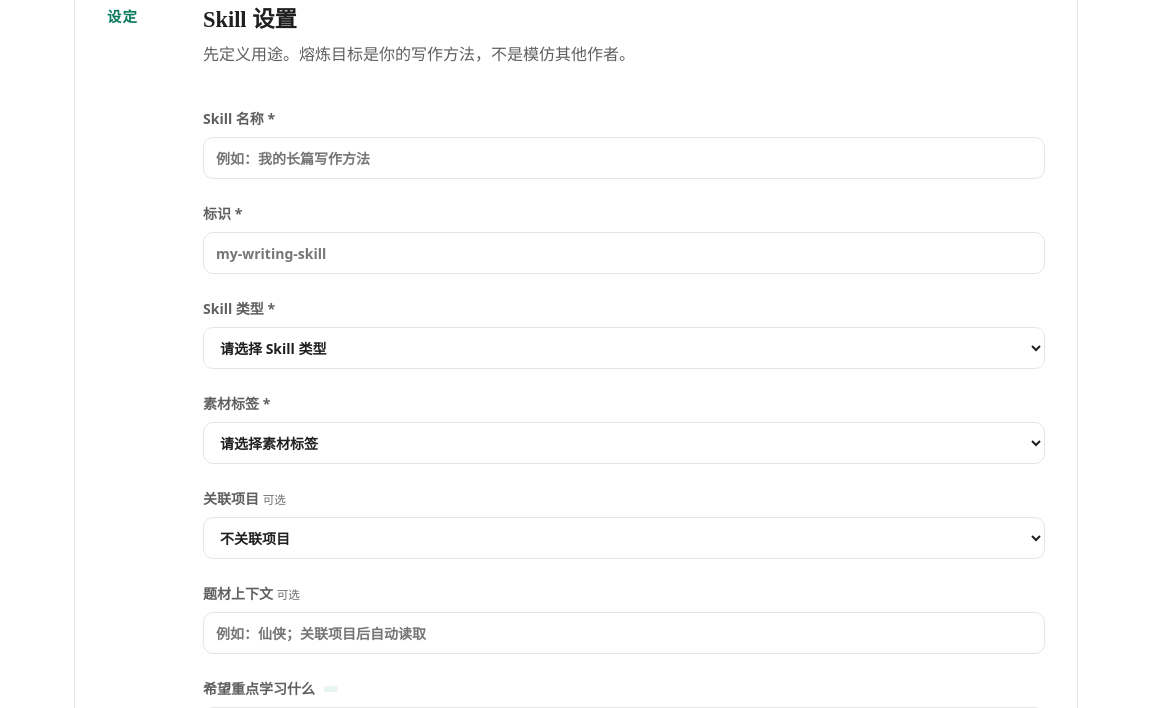
SkillForgeView › keeps customized template text when the Skill type changes
(page scrolled)
Step 1. Select "基础写作" in the dropdown labelled "Skill 类型 *" → (624, 348), box [203,327,1045,369]
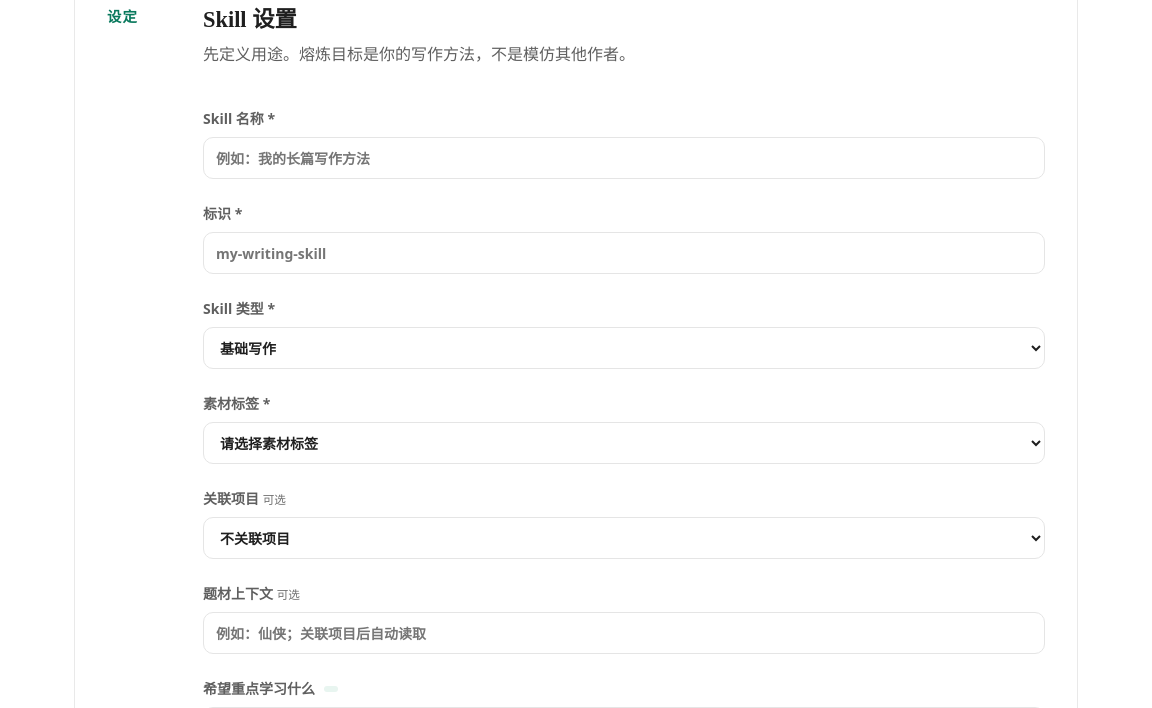
Step 2. Select "正文" in the dropdown labelled "素材标签 *" → (624, 443), box [203,422,1045,464]
(page scrolled)
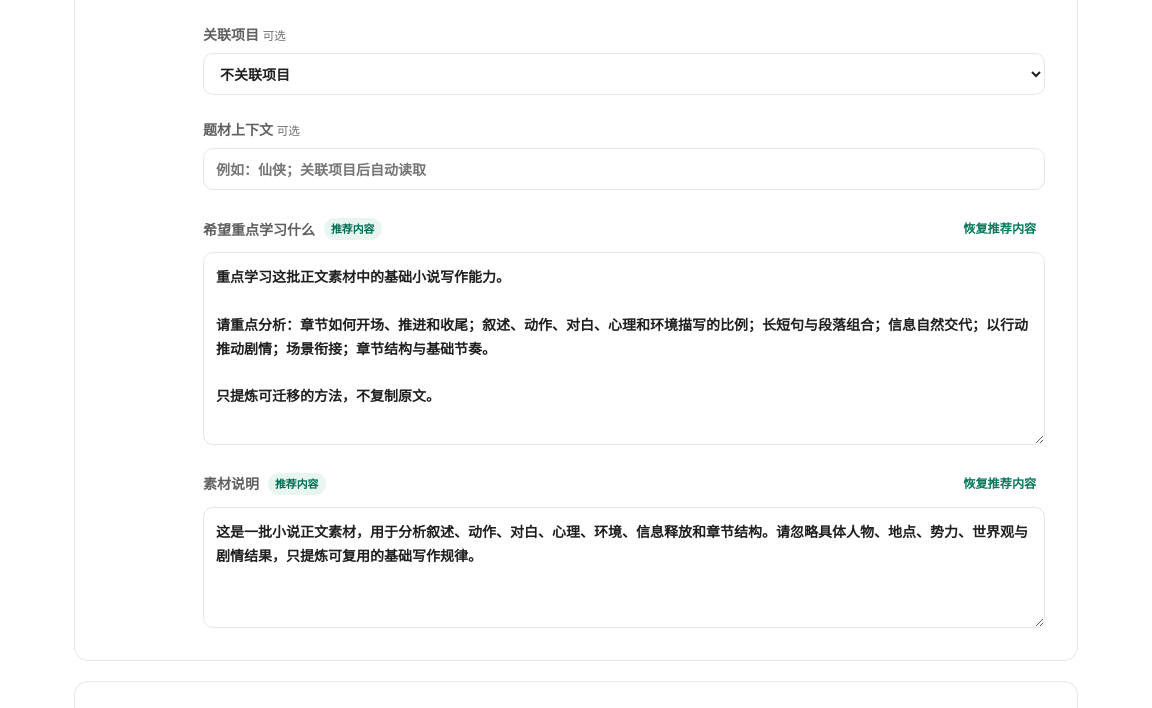
Step 3. Replace the text in the text box below "希望重点学习什么" with "只学习我指定的动作节奏。" → (624, 348), box [203,252,1045,445]
(page scrolled)
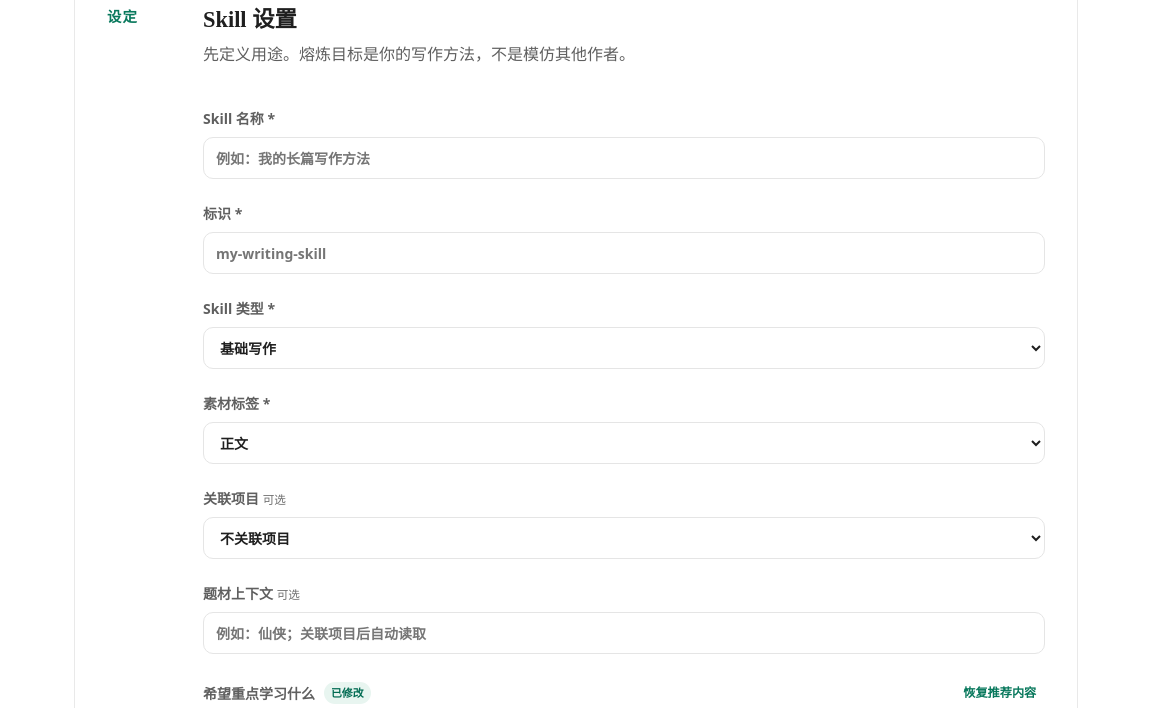
Step 4. Select "写作技法" in the dropdown labelled "Skill 类型 *" → (624, 348), box [203,327,1045,369]
(page scrolled)
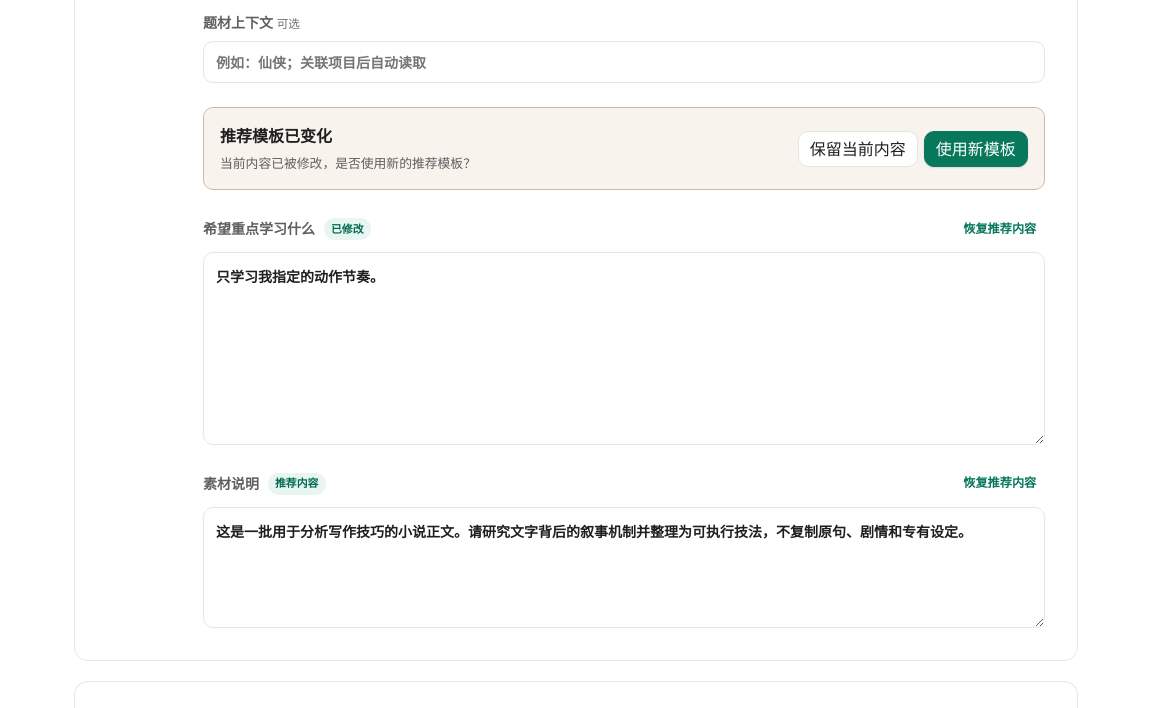
Result: the text "当前内容已被修改" is shown at [220,154,476,172]
Result: the text "使用新模板" is shown at [924,131,1028,167]
